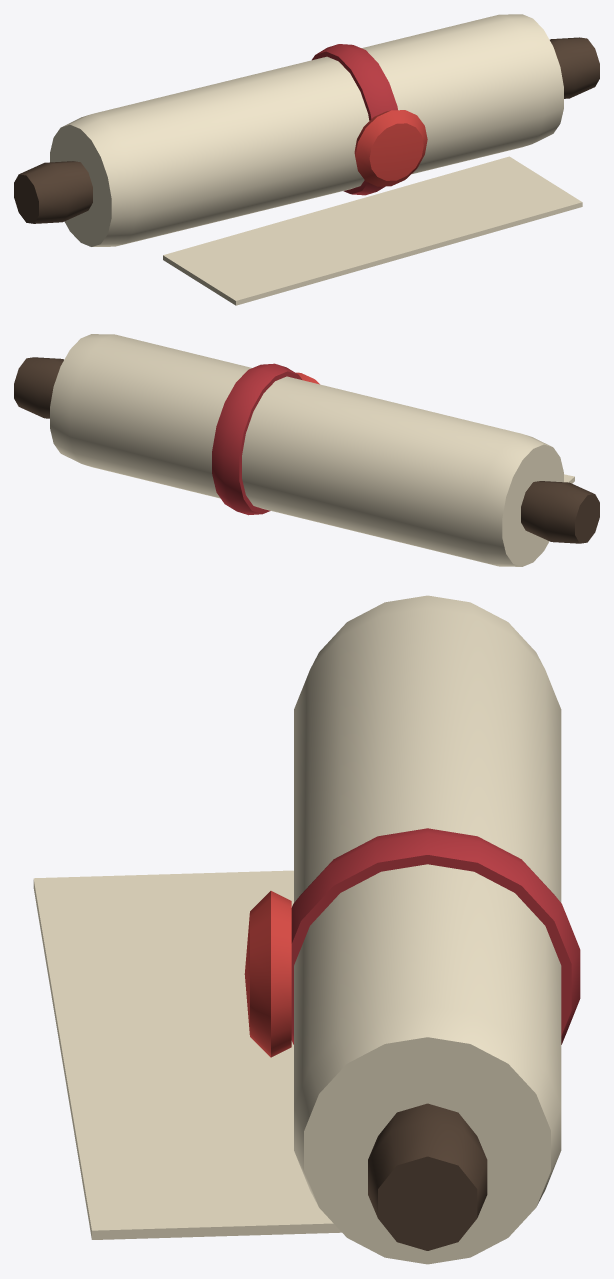
The model's file is recipe_berserker.glb.
The picture shows the model from 3 angles, top to bottom: view 1: azimuth 30°, elevation 25°; view 2: azimuth 150°, elevation 25°; view 3: azimuth 270°, elevation 25°; orthographic projection. The views are drawn at different scales.
Parts seen in each view (by area): view 1: recipe_berserker; view 2: recipe_berserker; view 3: recipe_berserker.
Part boxes in pixels (x1=…): recipe_berserker: x1=14, y1=14, x2=599, y2=305; recipe_berserker: x1=14, y1=334, x2=599, y2=566; recipe_berserker: x1=33, y1=595, x2=580, y2=1264.
Bounding box in the file's own units: 0.248 × 0.0594 × 0.1046.
